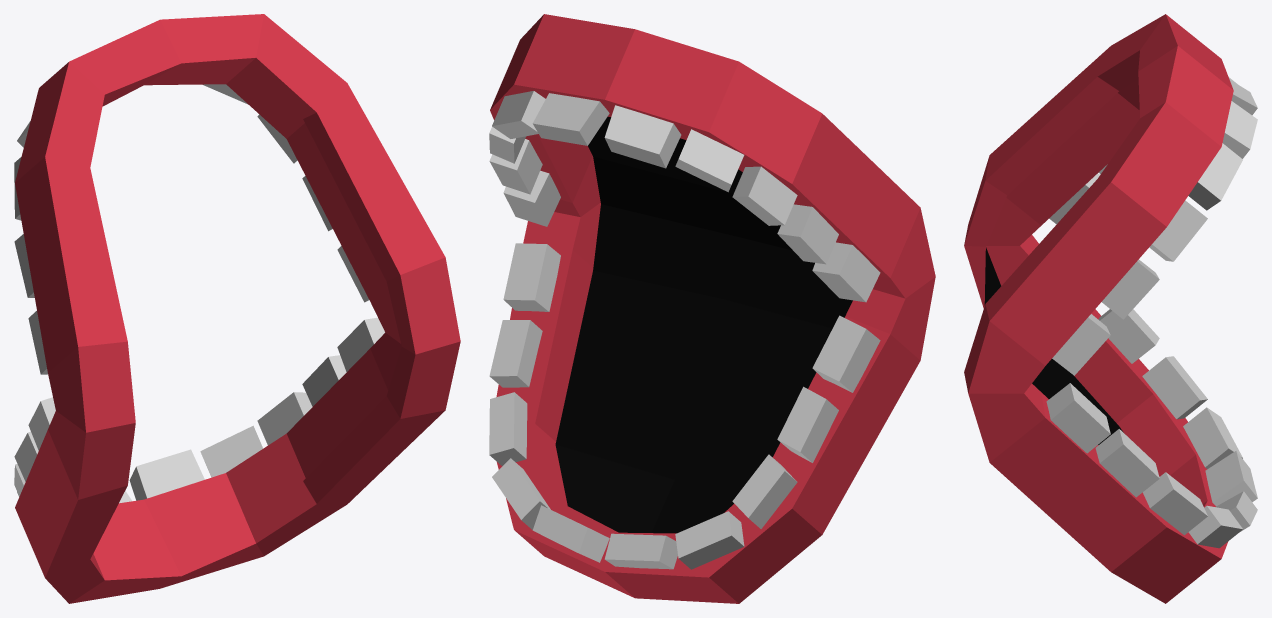
The model's file is Gebit.fbx.
3 views of the same model, side by side, from view 1: azimuth 30°, elevation 25°; view 2: azimuth 150°, elevation 25°; view 3: azimuth 270°, elevation 25° (orthographic). The views are drawn at different scales.
Parts seen in each view (by area): view 1: Cube, Cube.014, Cube.016, Cube.024, Cube.020, Cube.023, Cube.005, Cube.013; view 2: Cube, Cube.001, Cube.020, Cube.005, Cube.027, Cube.023, Cube.013, Cube.017, Cube.007, Cube.024, Cube.026, Cube.018 (+9 smaller); view 3: Cube, Cube.020, Cube.023, Cube.024, Cube.018, Cube.017, Cube.013, Cube.015, Cube.010, Cube.019, Cube.025, Cube.022 (+5 smaller).
Boxes of the visible parts, left/top/right/bottom form: Cube: left=15, top=14, right=460, bottom=603; Cube.014: left=129, top=449, right=204, bottom=500; Cube.016: left=200, top=425, right=262, bottom=477; Cube.024: left=257, top=392, right=312, bottom=445; Cube.020: left=337, top=317, right=384, bottom=371; Cube.023: left=302, top=355, right=346, bottom=406; Cube.005: left=28, top=397, right=55, bottom=450; Cube.013: left=14, top=431, right=38, bottom=481; Cube: left=490, top=14, right=935, bottom=603; Cube.001: left=604, top=105, right=681, bottom=168; Cube.020: left=503, top=243, right=560, bottom=311; Cube.005: left=812, top=315, right=880, bottom=392; Cube.027: left=532, top=93, right=609, bottom=145; Cube.023: left=489, top=320, right=542, bottom=387; Cube.013: left=777, top=386, right=838, bottom=462; Cube.017: left=675, top=511, right=744, bottom=569; Cube.007: left=812, top=242, right=880, bottom=302; Cube.024: left=489, top=392, right=527, bottom=465; Cube.026: left=732, top=166, right=797, bottom=225; Cube.018: left=732, top=454, right=797, bottom=528; Cube: left=964, top=14, right=1233, bottom=603; Cube.020: left=1046, top=383, right=1110, bottom=453; Cube.023: left=1095, top=429, right=1159, bottom=497; Cube.024: left=1143, top=472, right=1207, bottom=535; Cube.018: left=1142, top=356, right=1207, bottom=419; Cube.017: left=1183, top=407, right=1242, bottom=468; Cube.013: left=1098, top=309, right=1159, bottom=363; Cube.015: left=1205, top=451, right=1257, bottom=506; Cube.010: left=1188, top=143, right=1242, bottom=210; Cube.019: left=1052, top=314, right=1110, bottom=375; Cube.025: left=1149, top=200, right=1207, bottom=261; Cube.022: left=1102, top=259, right=1159, bottom=319.
Size of the model in its own units: 377 by 547 by 276.
